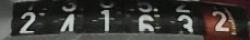digits: (176, 13, 196, 40), (98, 10, 114, 38), (137, 13, 156, 36), (211, 10, 230, 31), (19, 11, 36, 32), (59, 14, 74, 36)
